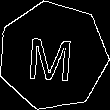M_N: (28, 29, 78, 83)
